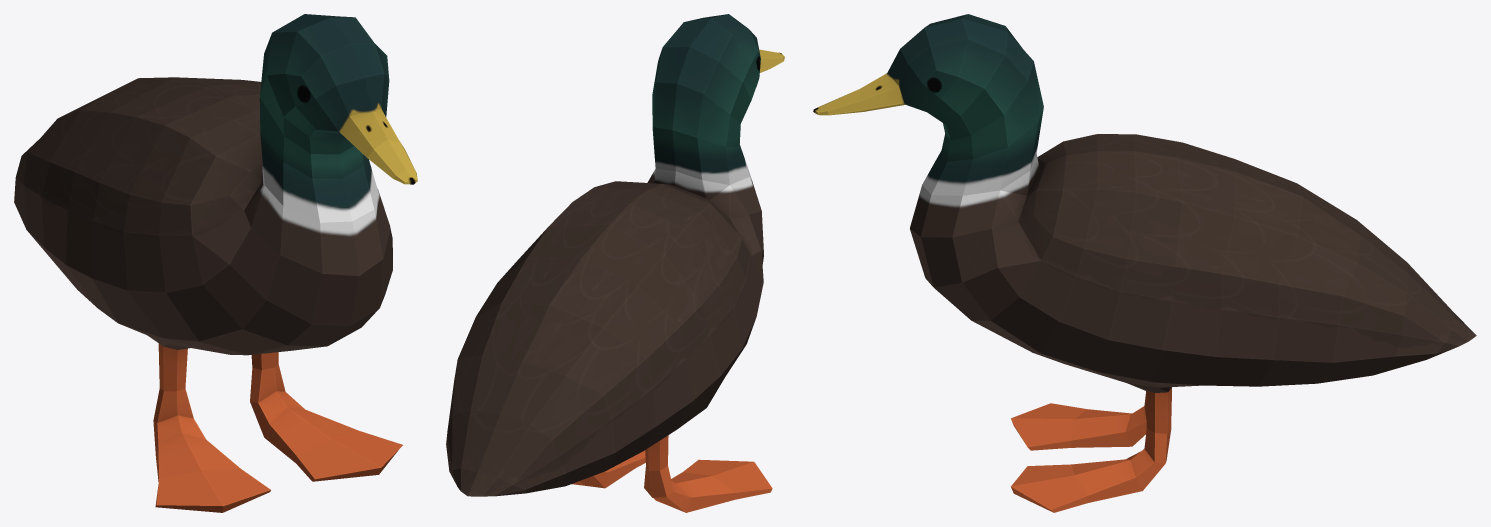
The model's file is duck.glb.
The picture shows the model from 3 angles, left to right: view 1: azimuth 30°, elevation 25°; view 2: azimuth 150°, elevation 25°; view 3: azimuth 270°, elevation 25°; orthographic projection. The views are drawn at different scales.
Visible parts, largest first — view 1: MallardDuck_Mesh; view 2: MallardDuck_Mesh; view 3: MallardDuck_Mesh.
Boxes of the visible parts, x1,y1,x2,y2 form: MallardDuck_Mesh: (14,14,417,512); MallardDuck_Mesh: (446,14,784,512); MallardDuck_Mesh: (813,14,1476,512).
Bounding box in the file's own units: 0.9816 × 1.87 × 2.55.
1 material, 1 textured.
